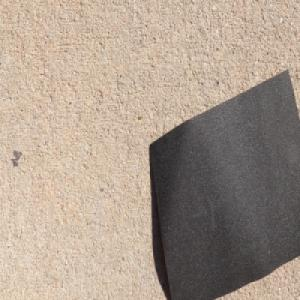PaintChip: (149, 66, 300, 300)
